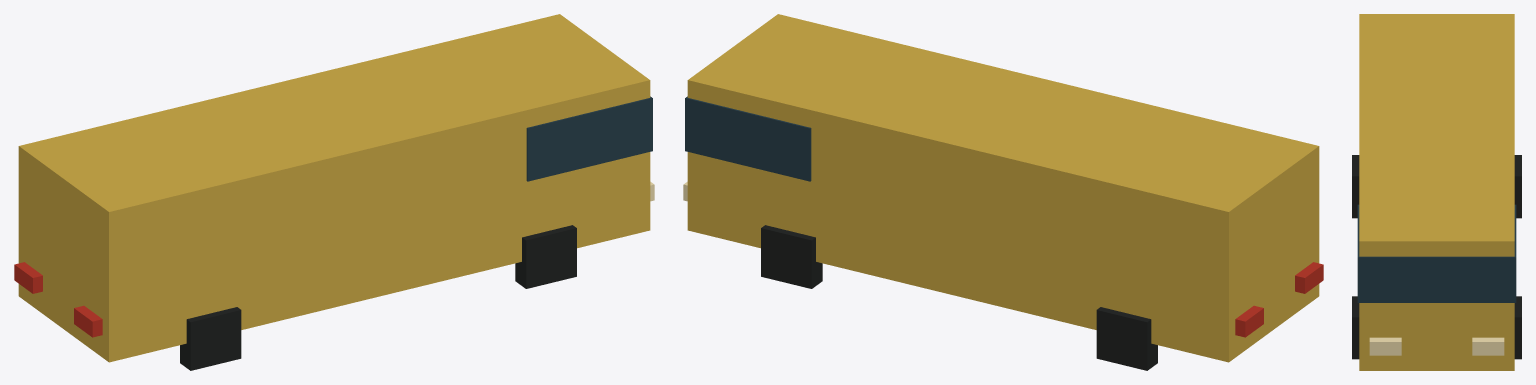
File: traffic-van-5.glb
3 views of the same model, side by side, from view 1: azimuth 30°, elevation 25°; view 2: azimuth 150°, elevation 25°; view 3: azimuth 270°, elevation 25° (orthographic). The views are drawn at different scales.
Size of the model in its own units: 6.65 by 1.98 by 2.02.
